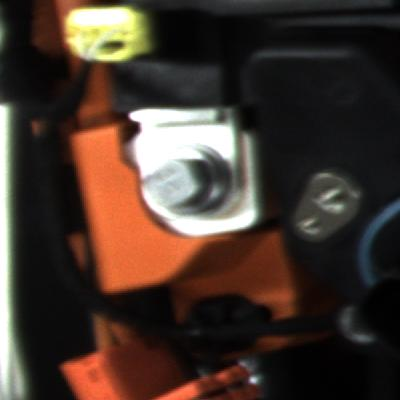nut_b: (139, 138, 240, 224)
